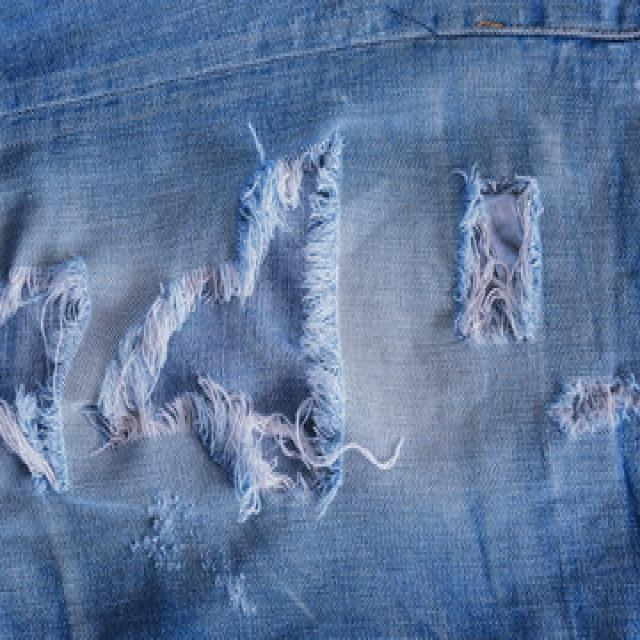Hole: (148, 130, 345, 522), (0, 257, 91, 492), (455, 165, 544, 344), (547, 377, 640, 440)
